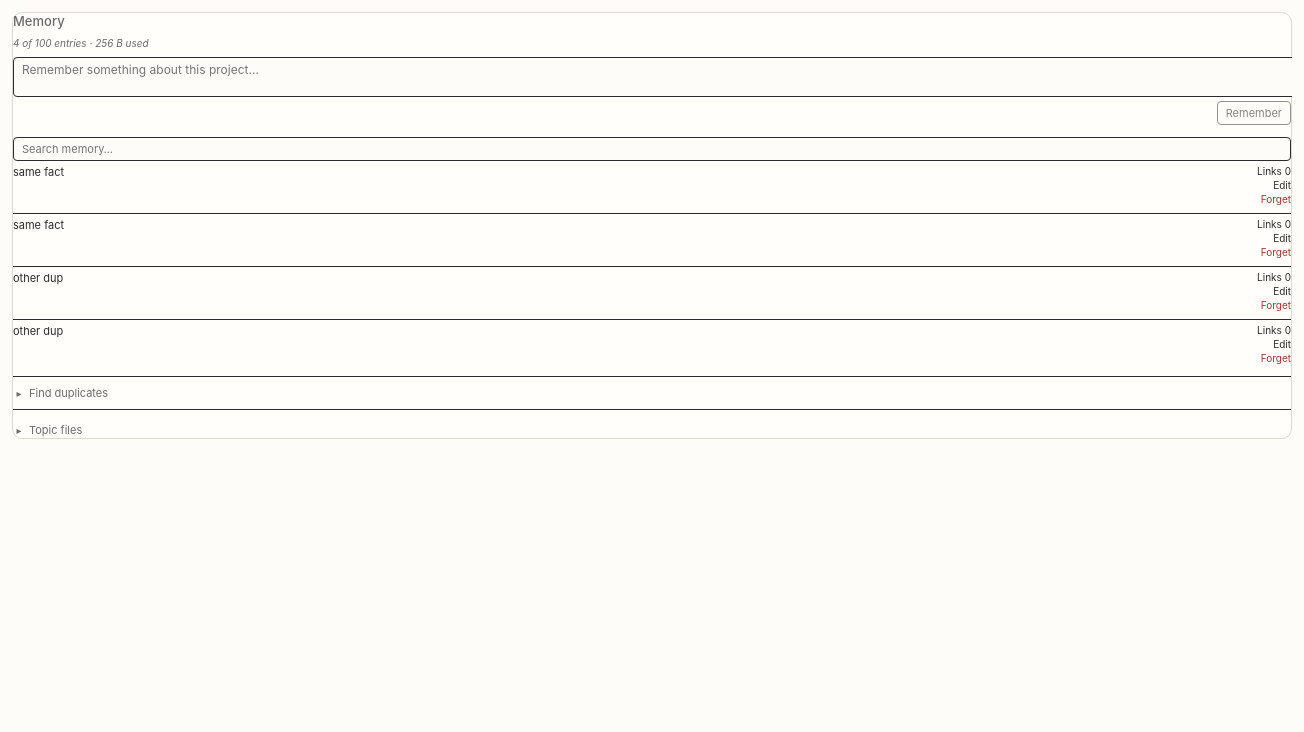
it: MemoryPanel — D66 selective compact › still shows the preview when the audit-log read fails
The image size is (1304, 732).
Expected: the text "4 of 100 entries · 256 B used" is shown, [13, 37, 149, 49]
Click the button "▸ Find duplicates".
click(61, 393)  # box [13, 386, 108, 400]
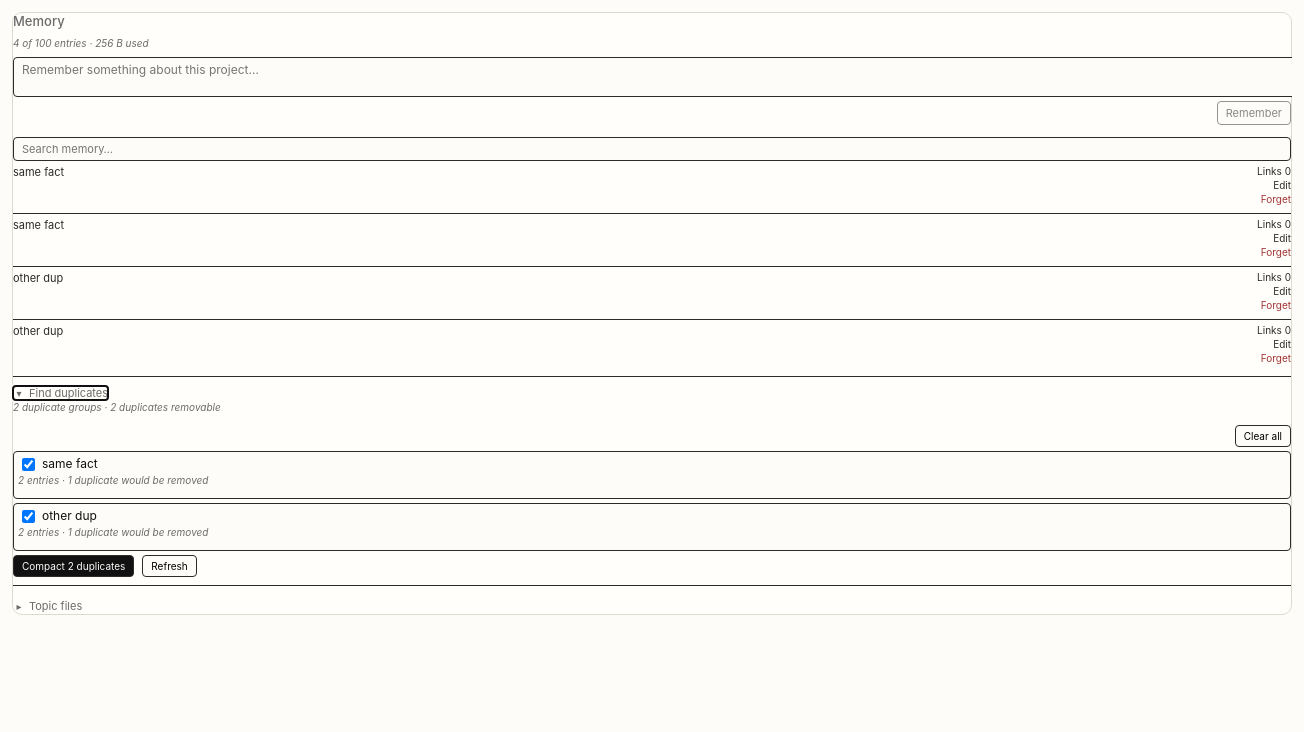
Result: the text "2 duplicate groups · 2 duplicates removable" is shown at [13, 401, 221, 413]
Result: the button "Compact 2 duplicates" is shown at [13, 555, 134, 577]
